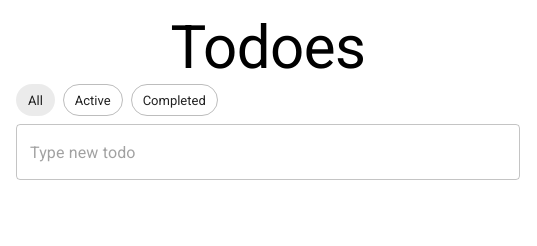
Test: Create todo
Type "NEW TODO" into the field with placeholder "Type new todo" at [268, 152], box x1=16 y1=124 x2=520 y2=180
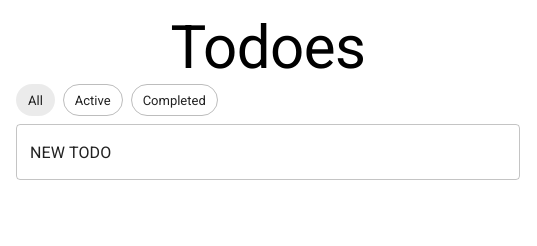
Press Enter in the field with placeholder "Type new todo", box x1=16 y1=124 x2=520 y2=180
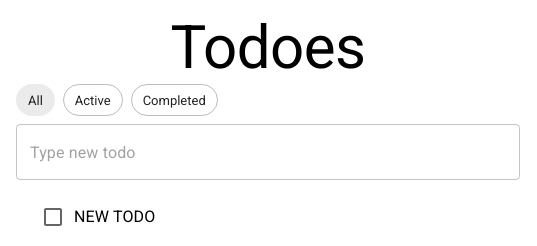
Expected: the text "NEW TODO" is shown, x1=74 y1=207 x2=155 y2=226
Expected: the checkbox is not checked, x1=41 y1=205 x2=65 y2=229
